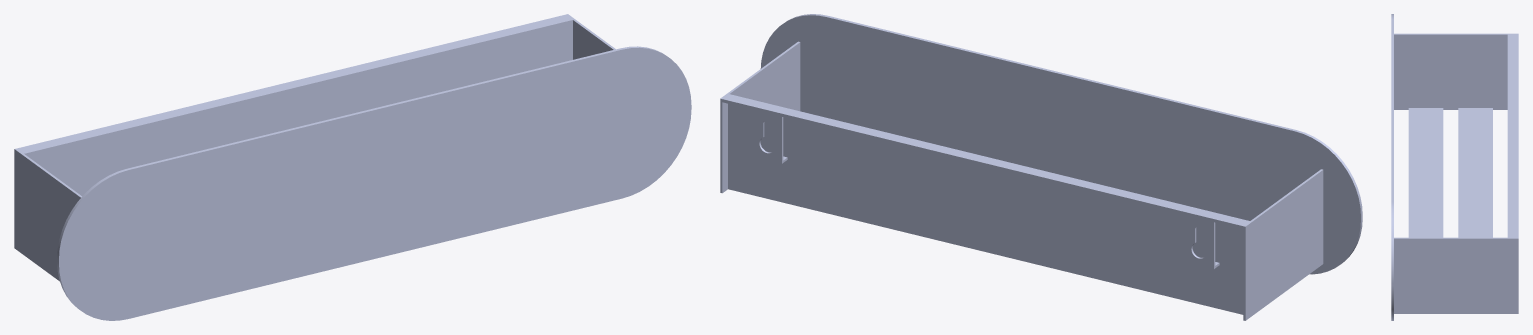
File: round-mono.b1e509e8a2.glb
3 renders of one model, left to right at view 1: azimuth 30°, elevation 25°; view 2: azimuth 150°, elevation 25°; view 3: azimuth 270°, elevation 25°, orthographic. The views are drawn at different scales.
Visible parts, largest first — view 1: NAUO1; view 2: NAUO1; view 3: NAUO1.
Part boxes in pixels (bbox=[...]): NAUO1: bbox=[14, 14, 691, 320]; NAUO1: bbox=[720, 14, 1362, 320]; NAUO1: bbox=[1391, 14, 1518, 320].
Size of the model in its own units: 0.4 by 0.09 by 0.092.
